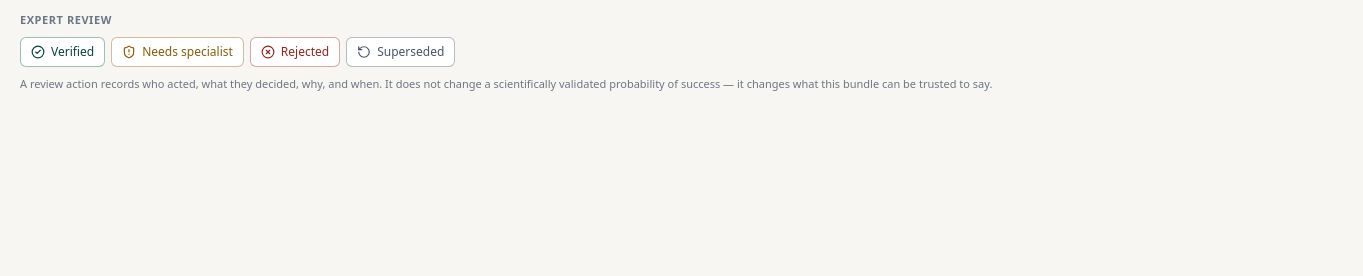
ReviewControls › blocks a rejection with no rationale and explains why
Click the button "Rejected" at (295, 52), box [250,36,340,66]
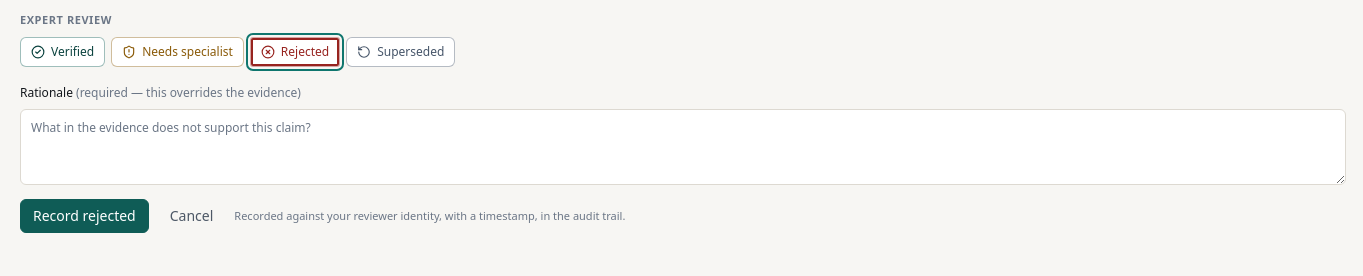
Check: the text "(required — this overrides the evidence)" is shown, box [76,84,301,100]
Click the button "Record rejected" at (84, 216), box [20,199,149,233]
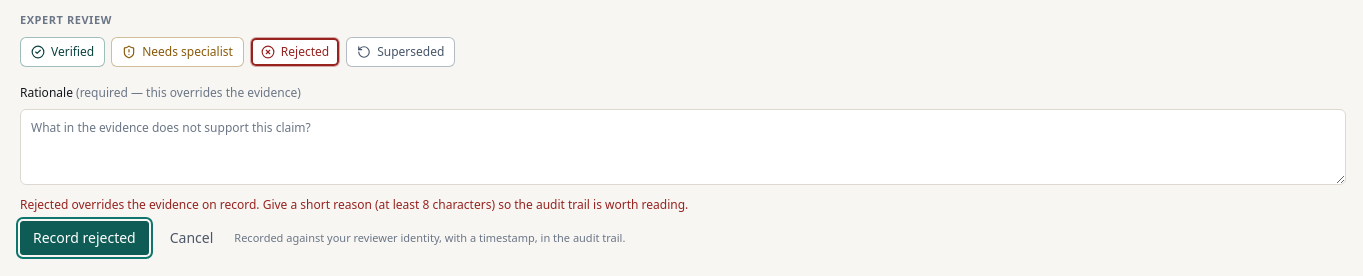
Check: the message shows "overrides the evidence on record", box [20,196,688,213]
